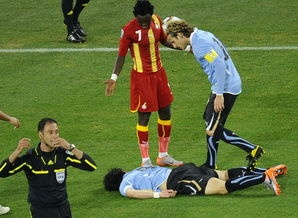falling: (97, 156, 288, 199)
